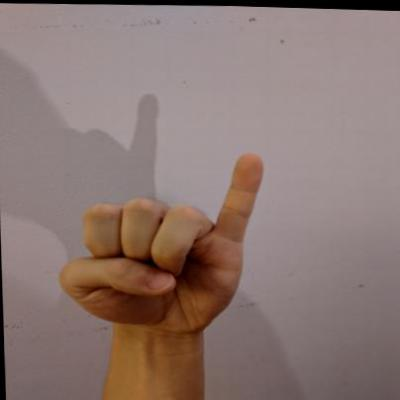hand: (49, 143, 271, 338)
